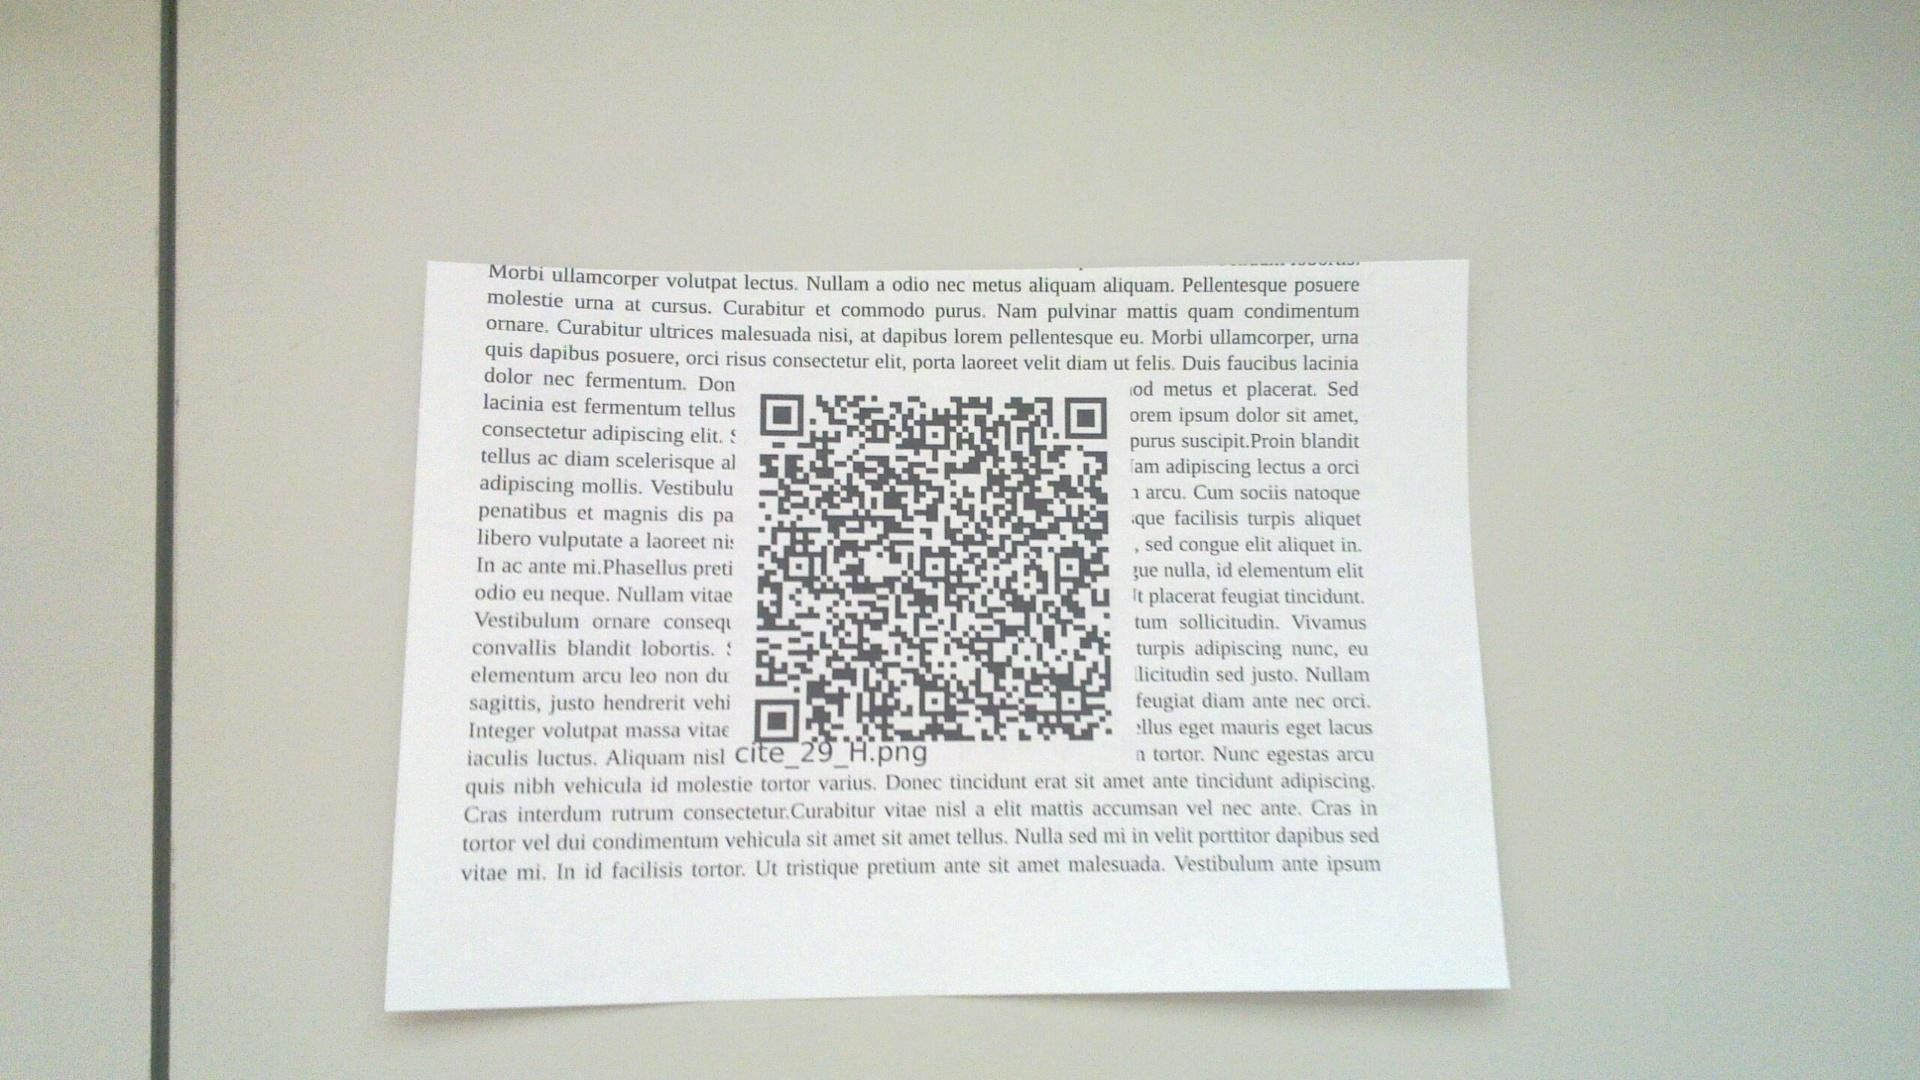qr_code: (754, 393, 1113, 742)
